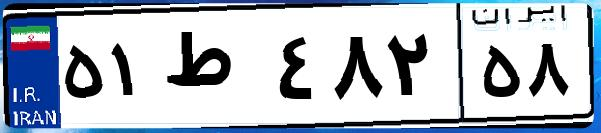1: (110, 28, 158, 98)
2: (385, 28, 445, 110)
4: (270, 28, 330, 110)
5: (57, 26, 110, 100), (475, 38, 525, 113)
8: (330, 28, 385, 110), (525, 38, 570, 115)
ط: (158, 20, 270, 120)
